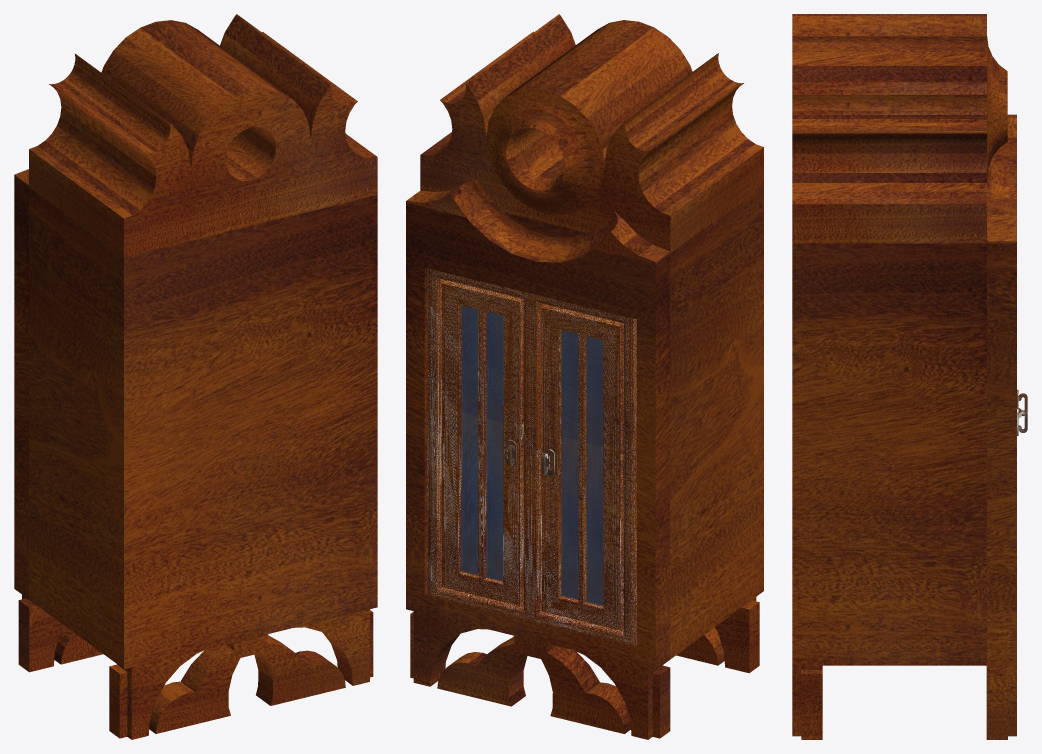
3 views of the same model, side by side, from view 1: azimuth 30°, elevation 25°; view 2: azimuth 150°, elevation 25°; view 3: azimuth 270°, elevation 25° (orthographic). The views are drawn at different scales.
Visible parts, largest first — view 1: mesh1_mesh1-geometry; view 2: mesh1_mesh1-geometry, mesh8_mesh8-geometry, mesh11_mesh11-geometry, mesh10_mesh10-geometry, mesh7_mesh7-geometry; view 3: mesh1_mesh1-geometry.
Part boxes in pixels (x1,y1,x2,y2): mesh1_mesh1-geometry: [14, 14, 377, 739]; mesh1_mesh1-geometry: [406, 14, 763, 739]; mesh8_mesh8-geometry: [531, 293, 636, 644]; mesh11_mesh11-geometry: [427, 268, 530, 619]; mesh10_mesh10-geometry: [461, 305, 503, 581]; mesh7_mesh7-geometry: [561, 329, 603, 605]; mesh1_mesh1-geometry: [792, 14, 1016, 739].
Size of the model in its own units: 0.376 by 0.8784 by 0.2951.
